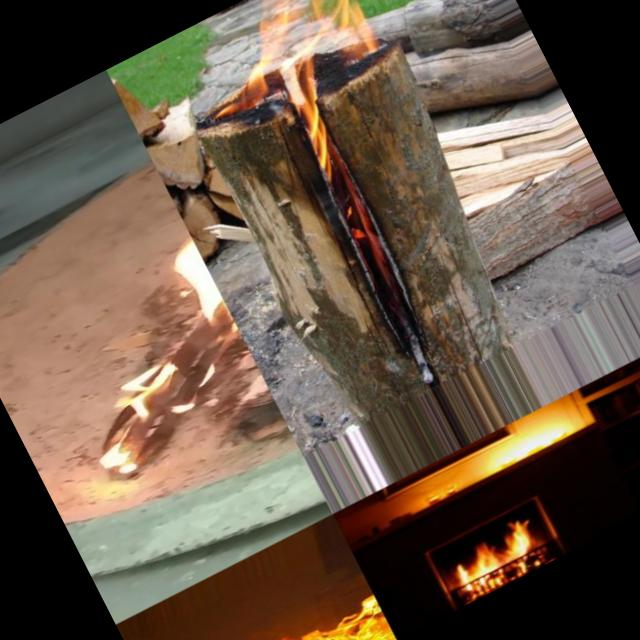fire: (15, 206, 272, 476), (178, 0, 435, 202), (142, 564, 397, 640), (438, 506, 560, 605)
